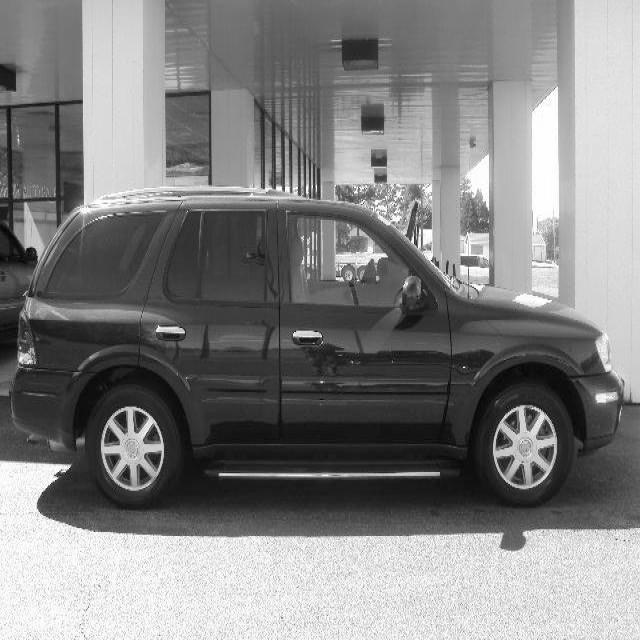car: (8, 184, 625, 509)
